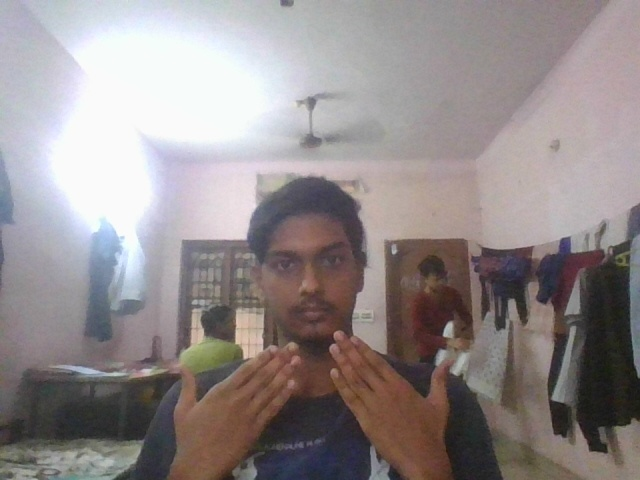thankyou: (169, 327, 453, 473)
